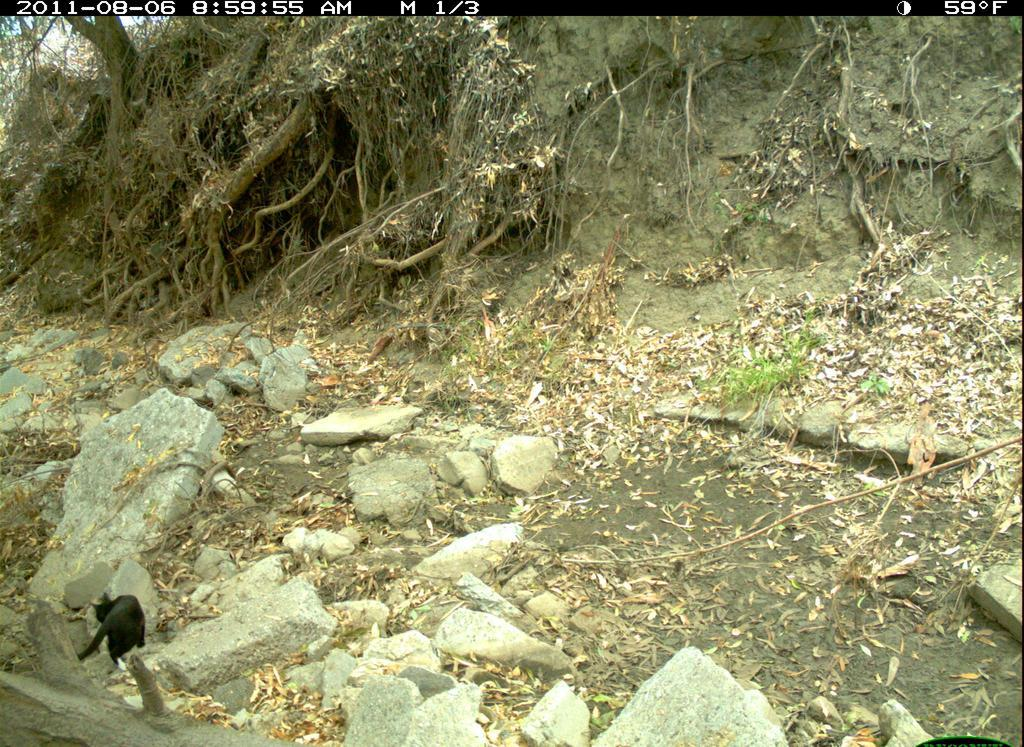cat: (68, 578, 150, 685)
